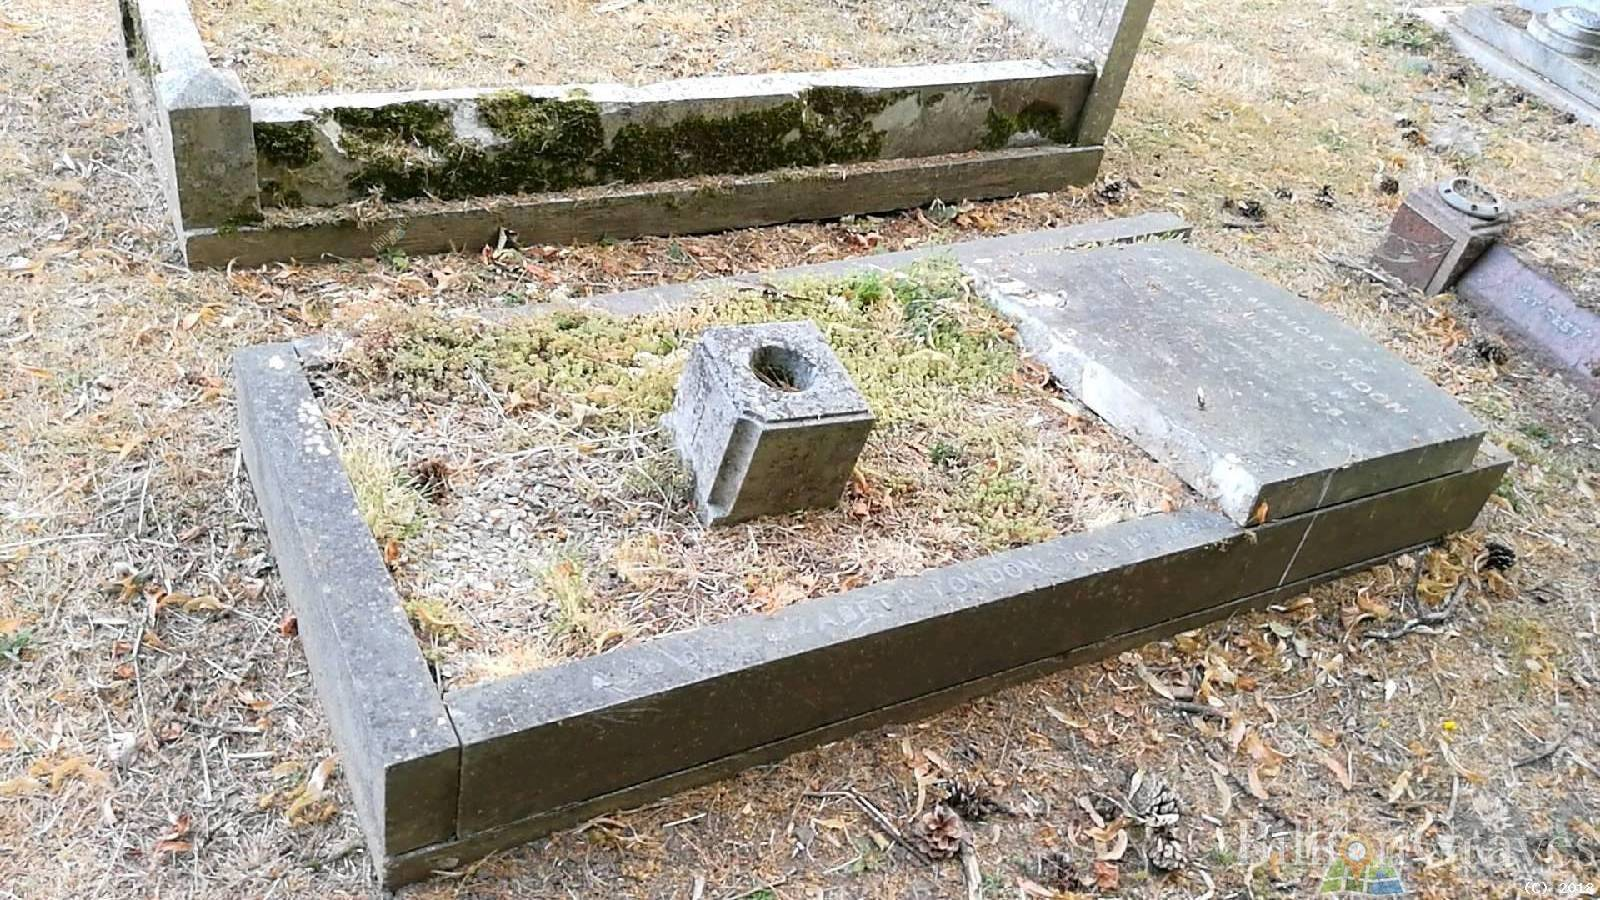vault: (180, 208, 1530, 877)
